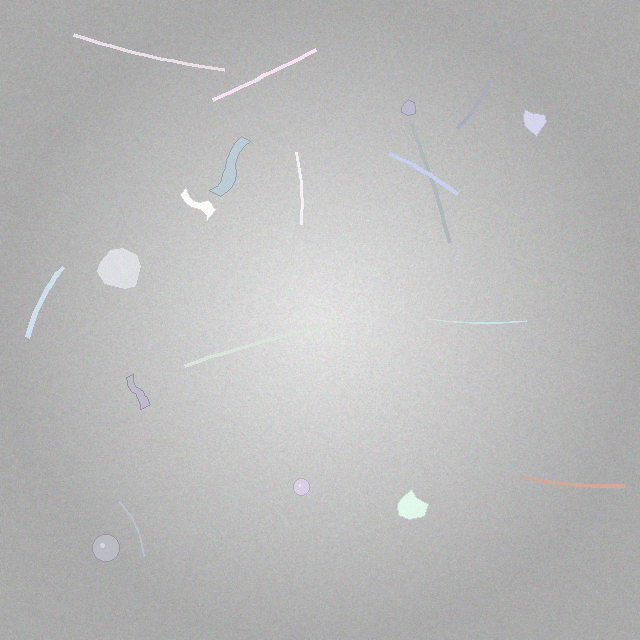fiber: (179, 318, 342, 371), (69, 30, 229, 74), (208, 45, 321, 105), (406, 119, 454, 248), (22, 262, 69, 343), (386, 149, 461, 198), (454, 76, 494, 132), (520, 473, 631, 490), (116, 499, 146, 559), (292, 149, 306, 229), (427, 316, 528, 325)
film: (210, 136, 251, 196), (180, 188, 217, 222), (127, 374, 150, 409)
fragment: (97, 248, 142, 290), (398, 490, 428, 520), (524, 110, 547, 137), (402, 99, 415, 115)
pellet: (92, 535, 119, 562), (293, 479, 310, 495)
